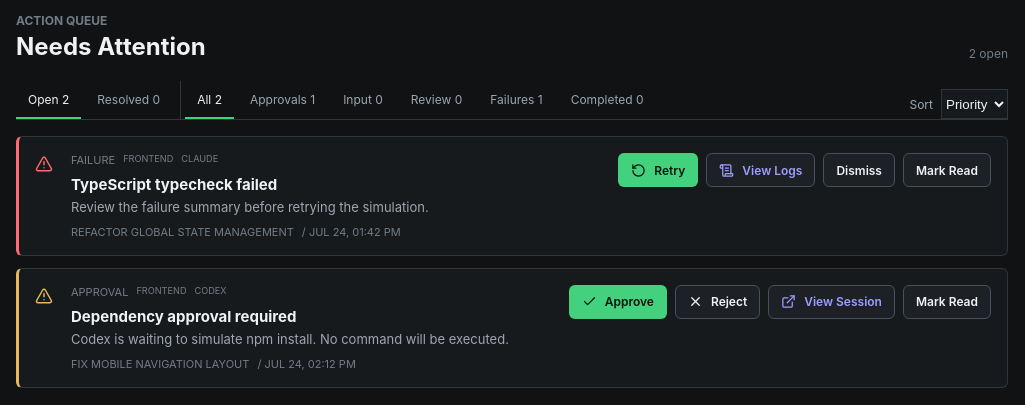
it: AttentionPage › rejects an approval, records the updated session state, and keeps resolved entries read-only
Click the button with aria-label "Reject Dependency approval required" at (718, 302), box [675,285,760,319]
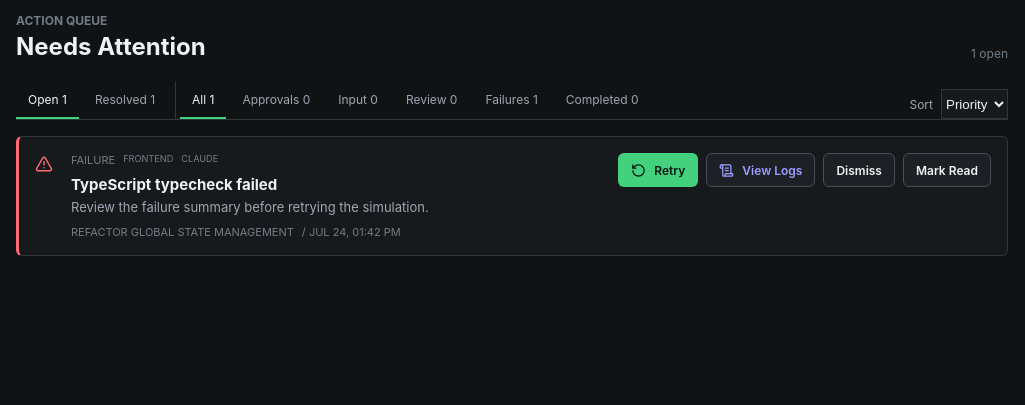
expect the heading "Dependency approval required" is gone: met
Click the button "Resolved 1" at (125, 100), box [83,81,167,119]
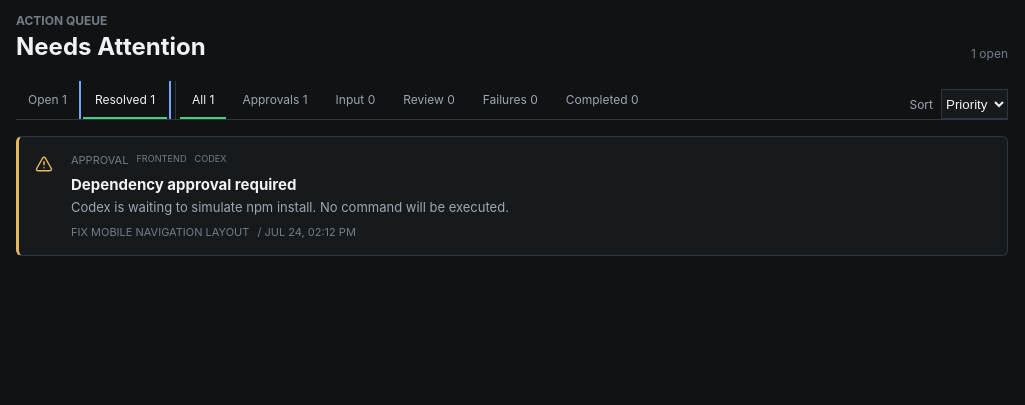
expect the heading "Dependency approval required" is shown: met, box [71,175,296,194]
